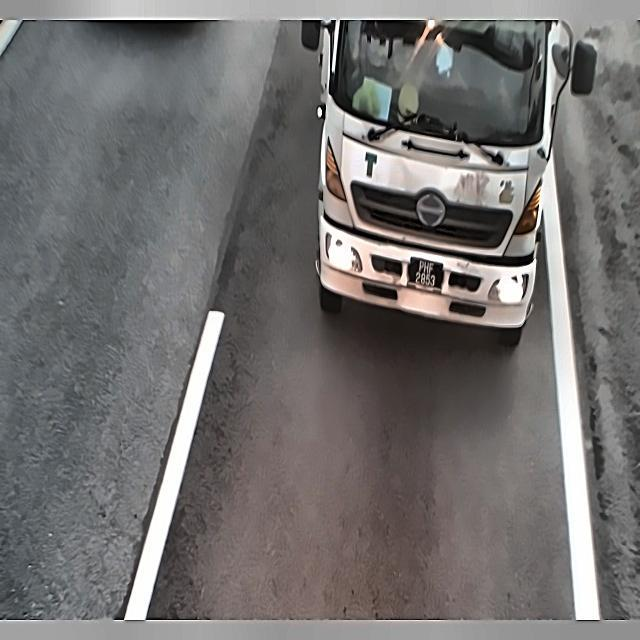car: (408, 252, 446, 294)
